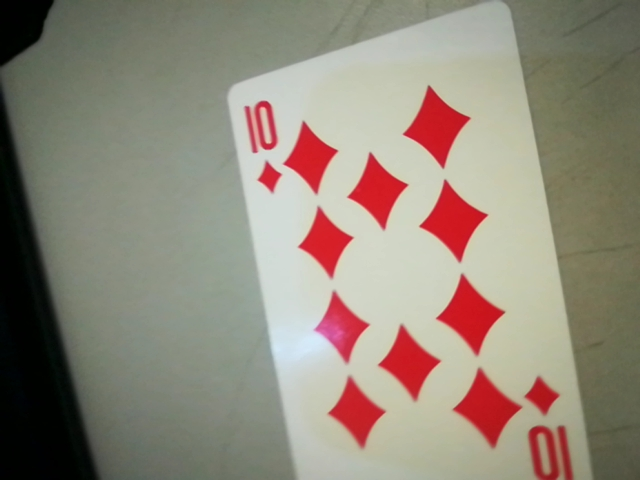fk 10: (229, 90, 292, 200)
